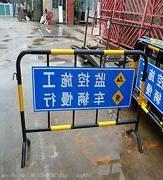sign: (31, 66, 137, 111)
